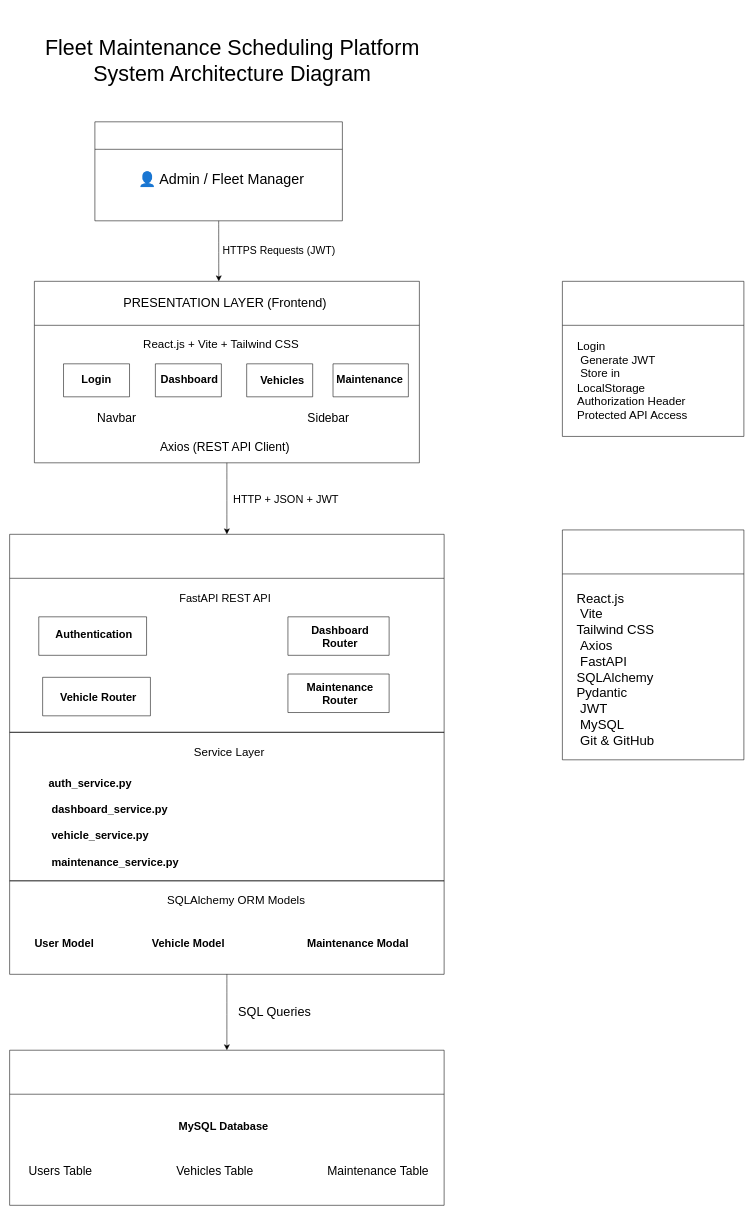
Image size: 754x1215. Some labels were removed from this diagram. The box of each missing label's shape, as (x1, y1, x2, y2) in pixels:
APPLICATION LAYER (FastAPI): (9, 534, 444, 732)
DATABASE LAYER: (9, 1050, 444, 1205)
JWT Authentication: (562, 281, 744, 436)
Technology Stack: (562, 529, 744, 760)
USER LAYER: (94, 121, 342, 221)
